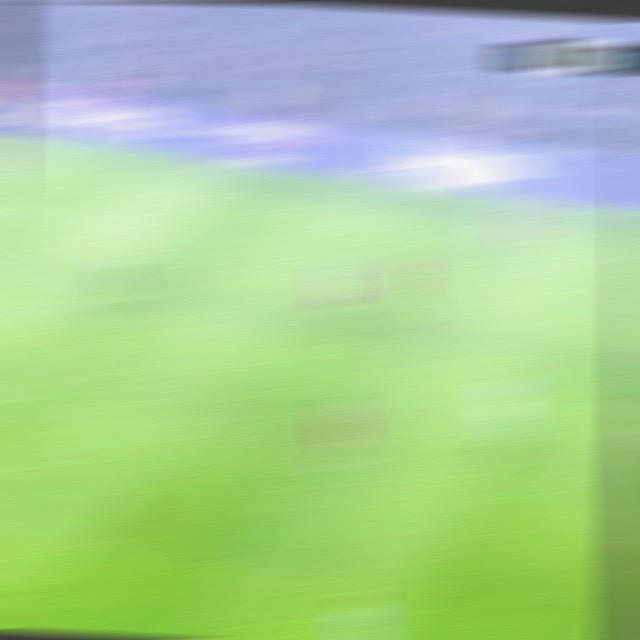bigarea_top_inner: (145, 222, 185, 244)
corner: (0, 131, 33, 145)
top_arc_area_intersection: (43, 294, 85, 316)
